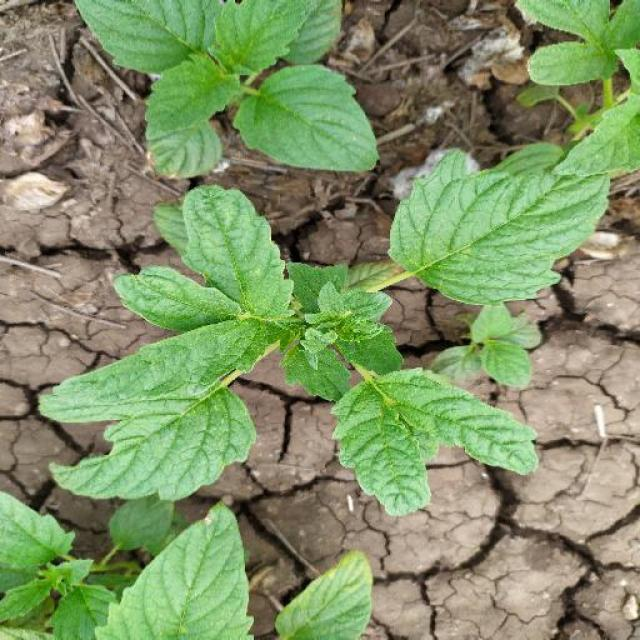crop: (36, 176, 640, 526), (60, 2, 395, 186)
